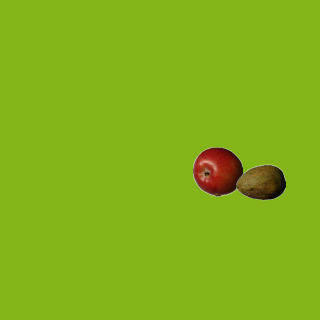Apple Braeburn: (192, 146, 242, 196)
Papaya: (235, 157, 285, 207)
